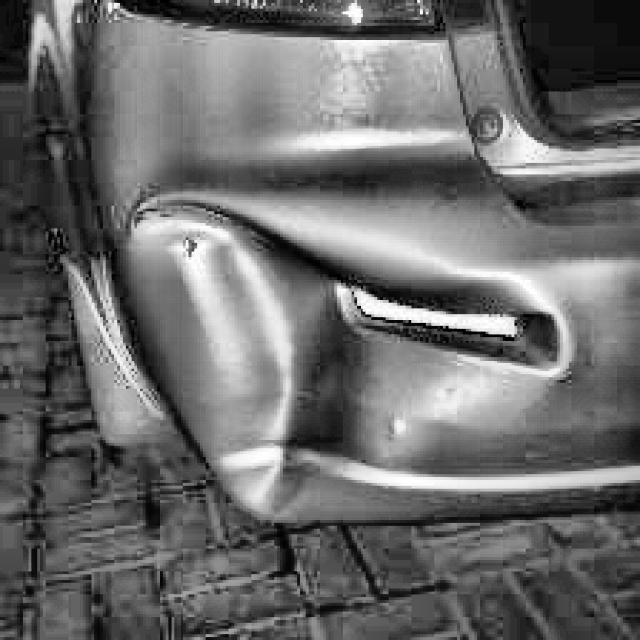bumper_dent: (138, 204, 336, 517)
